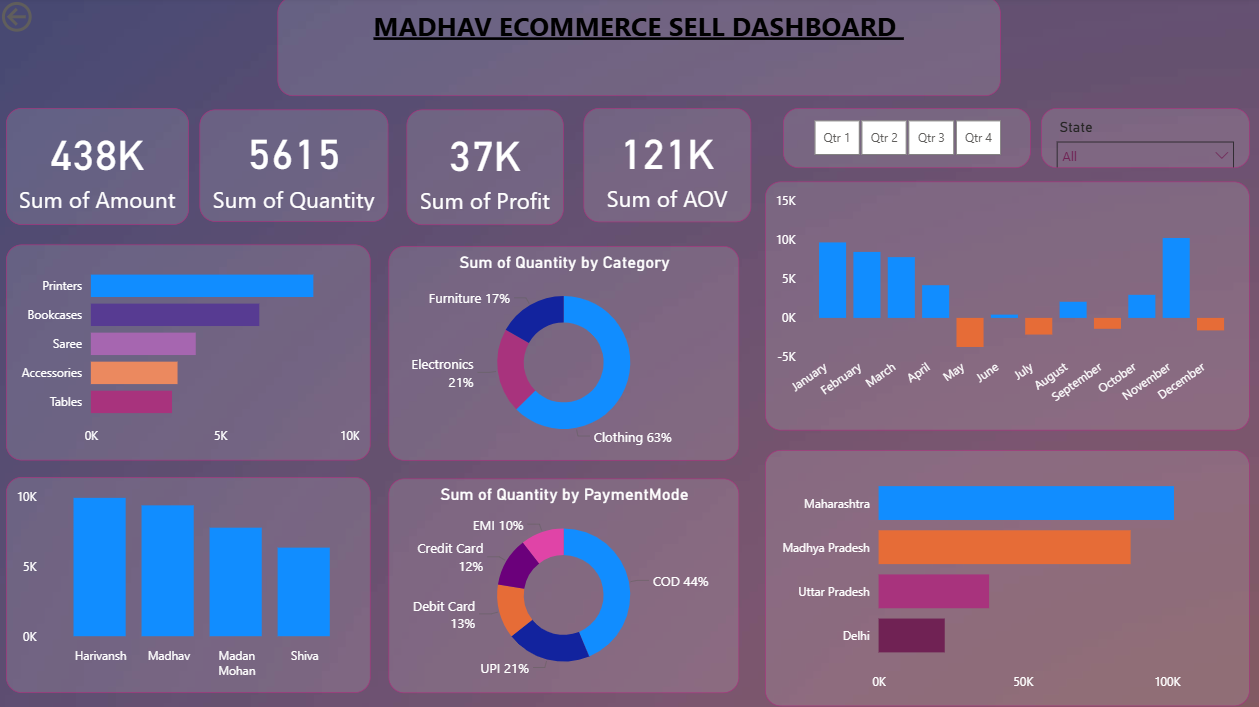

The page's visual inventory and layout, read from the dashboard file:
{"tool":"powerbi","page":{"name":"Page 1","canvas":[1280,720],"ordinal":0},"visuals":[{"type":"textbox","box":[283.2,0,729.8,99.9],"z":0},{"type":"columnChart","fields":{"Y":["Details.Profit"],"Category":["Orders.Order Date.Variation.Date Hierarchy.Month"]},"box":[775.3,186.2,489.1,251.4],"z":1000},{"type":"actionButton","box":[0,0,100,40],"z":2000},{"type":"barChart","fields":{"Category":["Details.Sub-Category"],"Y":["Details.Profit"]},"box":[9.1,249.8,368,218],"z":3000},{"type":"donutChart","fields":{"Category":["Details.Category"],"Y":["Details.Quantity"]},"box":[395.2,251.4,354.3,216.5],"z":4000},{"type":"donutChart","fields":{"Category":["Details.PaymentMode"],"Y":["Details.Quantity"]},"box":[395.2,486.1,354.3,216.5],"z":5000},{"type":"card","fields":{"Values":["Details.Amount"]},"box":[9.1,112.1,184.7,118.1],"z":6000},{"type":"card","fields":{"Values":["Details.Quantity"]},"box":[204.4,113.6,190.8,113.6],"z":7000},{"type":"card","fields":{"Values":["Details.Profit"]},"box":[413.4,113.6,159,116.6],"z":8000},{"type":"card","fields":{"Values":["Details.AOV"]},"box":[592.1,112.1,169.6,115.1],"z":9000},{"type":"barChart","fields":{"Y":["Details.Amount"],"Category":["Orders.State"]},"box":[775.3,457.3,489.1,258.9],"z":10000},{"type":"columnChart","fields":{"Category":["Orders.CustomerName"],"Y":["Details.Amount"]},"box":[9.1,484.5,368,218],"z":11000},{"type":"slicer","fields":{"Values":["Orders.Order Date.Variation.Date Hierarchy.Quarter"]},"box":[793.4,112.1,249.8,60.6],"z":12000},{"type":"slicer","fields":{"Values":["Orders.State"]},"box":[1053.9,112.1,210.5,60.6],"z":13000}]}

Visuals, with their boxes in screenshot pixels (x1, y1, x2, y2), scaled from the page's 1280x720 canvas onto the 1259x707 screenshot:
textbox: x1=279 y1=0 x2=996 y2=98
columnChart - Details.Profit x Orders.Order Date.Variation.Date Hierarchy.Month: x1=763 y1=183 x2=1244 y2=430
actionButton: x1=0 y1=0 x2=98 y2=39
barChart - Details.Sub-Category x Details.Profit: x1=9 y1=245 x2=371 y2=459
donutChart - Details.Category x Details.Quantity: x1=389 y1=247 x2=737 y2=459
donutChart - Details.PaymentMode x Details.Quantity: x1=389 y1=477 x2=737 y2=690
card - Details.Amount: x1=9 y1=110 x2=191 y2=226
card - Details.Quantity: x1=201 y1=112 x2=389 y2=223
card - Details.Profit: x1=407 y1=112 x2=563 y2=226
card - Details.AOV: x1=582 y1=110 x2=749 y2=223
barChart - Details.Amount x Orders.State: x1=763 y1=449 x2=1244 y2=703
columnChart - Orders.CustomerName x Details.Amount: x1=9 y1=476 x2=371 y2=690
slicer - Orders.Order Date.Variation.Date Hierarchy.Quarter: x1=780 y1=110 x2=1026 y2=170
slicer - Orders.State: x1=1037 y1=110 x2=1244 y2=170
